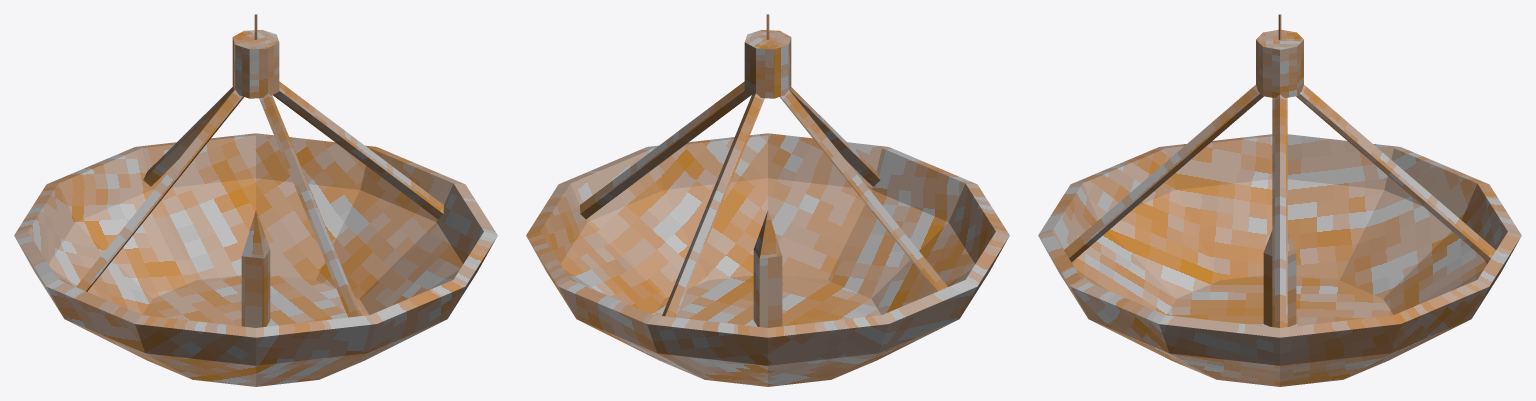
File: april_fool_antenna.obj
3 renders of one model, left to right at view 1: azimuth 30°, elevation 25°; view 2: azimuth 150°, elevation 25°; view 3: azimuth 270°, elevation 25°, orthographic.
Parts seen in each view (by area): view 1: Cylinder.001, Cylinder.005_Cylinder.004, Cylinder.006_Cylinder.004, Cylinder.004, Cylinder.008_Cylinder.005, Cylinder.003, Cylinder.007_Cylinder.004; view 2: Cylinder.001, Cylinder.007_Cylinder.004, Cylinder.006_Cylinder.004, Cylinder.004, Cylinder.008_Cylinder.005, Cylinder.003, Cylinder.005_Cylinder.004; view 3: Cylinder.001, Cylinder.005_Cylinder.004, Cylinder.007_Cylinder.004, Cylinder.006_Cylinder.004, Cylinder.008_Cylinder.005, Cylinder.003.
Part boxes in pixels (box(x1,y1,x2,y2)): Cylinder.001: box(14, 133, 497, 386); Cylinder.005_Cylinder.004: box(259, 93, 361, 317); Cylinder.006_Cylinder.004: box(273, 81, 443, 219); Cylinder.004: box(76, 90, 243, 291); Cylinder.008_Cylinder.005: box(232, 30, 279, 98); Cylinder.003: box(241, 210, 270, 327); Cylinder.007_Cylinder.004: box(143, 87, 233, 186); Cylinder.001: box(526, 133, 1009, 386); Cylinder.007_Cylinder.004: box(662, 93, 764, 317); Cylinder.006_Cylinder.004: box(580, 81, 750, 219); Cylinder.004: box(780, 90, 947, 291); Cylinder.008_Cylinder.005: box(744, 30, 791, 98); Cylinder.003: box(753, 210, 782, 327); Cylinder.005_Cylinder.004: box(790, 87, 880, 186); Cylinder.001: box(1038, 134, 1521, 386); Cylinder.005_Cylinder.004: box(1064, 85, 1263, 262); Cylinder.007_Cylinder.004: box(1296, 85, 1495, 262); Cylinder.006_Cylinder.004: box(1272, 95, 1287, 327); Cylinder.008_Cylinder.005: box(1256, 30, 1303, 98); Cylinder.003: box(1263, 230, 1296, 326).
Size of the model in its own units: 3.82 by 3.1 by 3.82.
